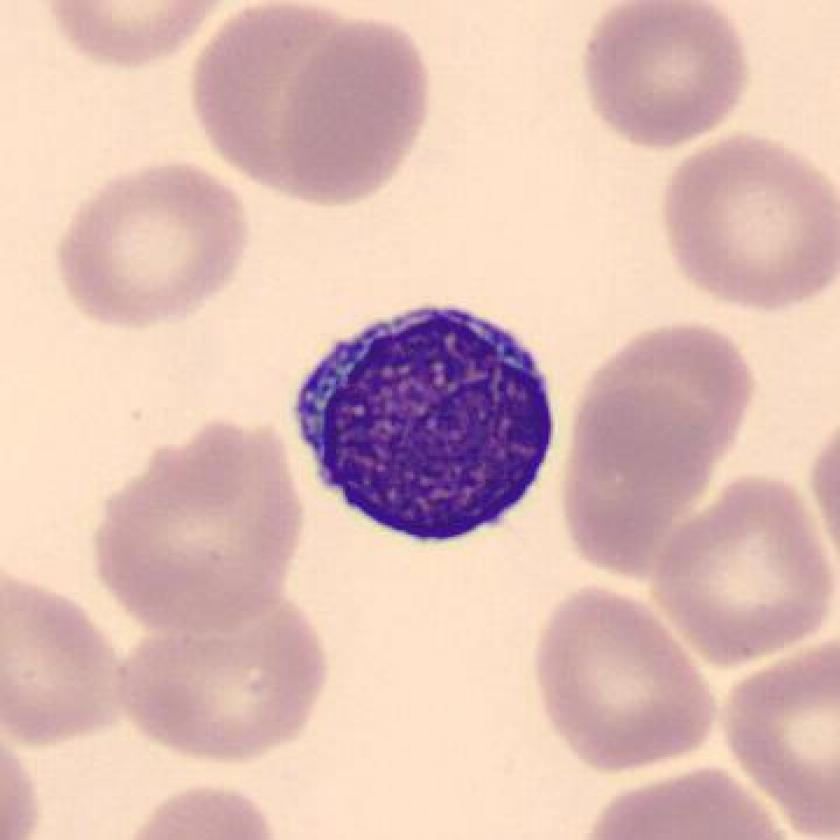lymphocyte: (281, 284, 570, 557)
